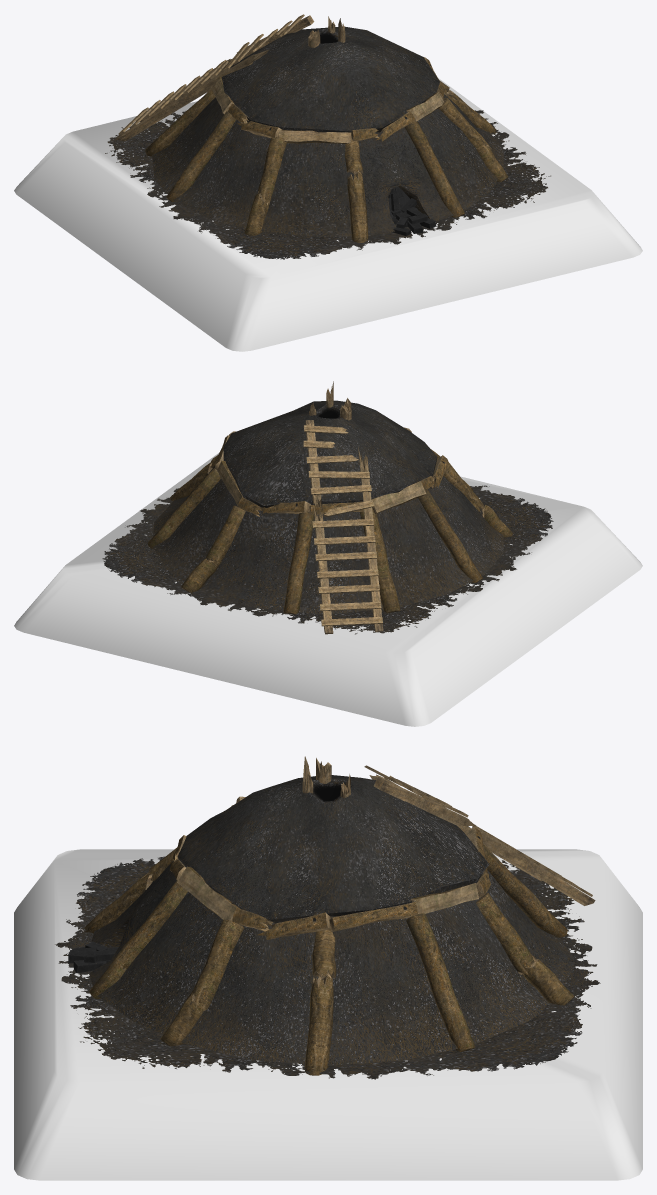
Rendered from CoalerPile_Destroyed_Stage1.fbx.
The picture shows the model from 3 angles, top to bottom: view 1: azimuth 30°, elevation 25°; view 2: azimuth 150°, elevation 25°; view 3: azimuth 270°, elevation 25°; orthographic projection. The views are drawn at different scales.
Parts seen in each view (by area): view 1: CoalerPile_Destroyed_Stage1, CoalerPile_Base_Destroyed_Stage1; view 2: CoalerPile_Destroyed_Stage1, CoalerPile_Base_Destroyed_Stage1; view 3: CoalerPile_Destroyed_Stage1, CoalerPile_Base_Destroyed_Stage1.
Part boxes in pixels (left/top/right/bottom): CoalerPile_Destroyed_Stage1: left=105, top=14, right=550, bottom=259; CoalerPile_Base_Destroyed_Stage1: left=14, top=78, right=642, bottom=351; CoalerPile_Destroyed_Stage1: left=102, top=381, right=553, bottom=634; CoalerPile_Base_Destroyed_Stage1: left=14, top=452, right=642, bottom=726; CoalerPile_Destroyed_Stage1: left=55, top=756, right=600, bottom=1079; CoalerPile_Base_Destroyed_Stage1: left=14, top=849, right=642, bottom=1180.
Size of the model in its own units: 796 by 383 by 758.
